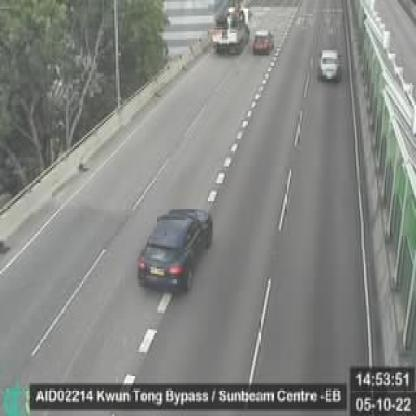Car: (138, 206, 212, 290), (317, 48, 341, 80), (251, 29, 272, 54)
Truck: (212, 3, 251, 54)
